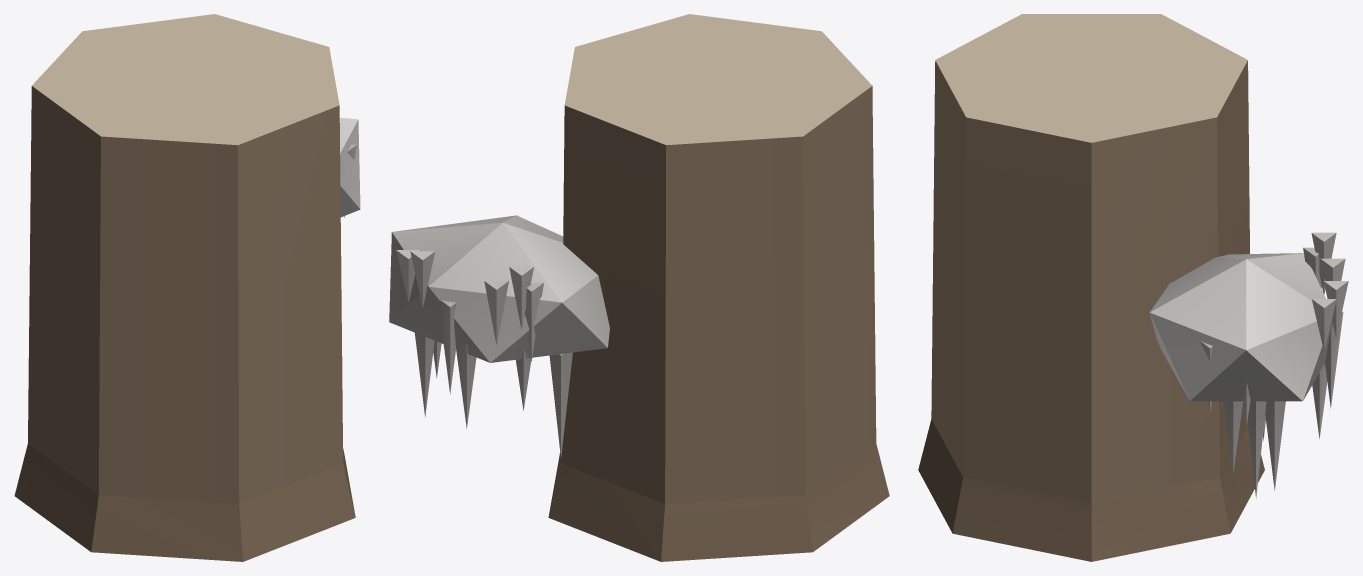
The model's file is mushroom_lionsmane_low.glb.
3 renders of one model, left to right at view 1: azimuth 30°, elevation 25°; view 2: azimuth 150°, elevation 25°; view 3: azimuth 270°, elevation 25°, orthographic.
Size of the model in its own units: 0.2296 by 0.235 by 0.2227.
